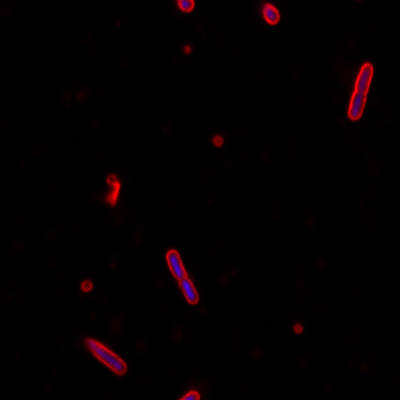Oblique: (80, 336, 128, 376), (262, 3, 280, 26)
Rifampicin: (165, 249, 199, 307), (346, 61, 374, 121)
Vesicle: (80, 280, 93, 293), (213, 135, 224, 147), (293, 322, 303, 335), (182, 45, 192, 55)
